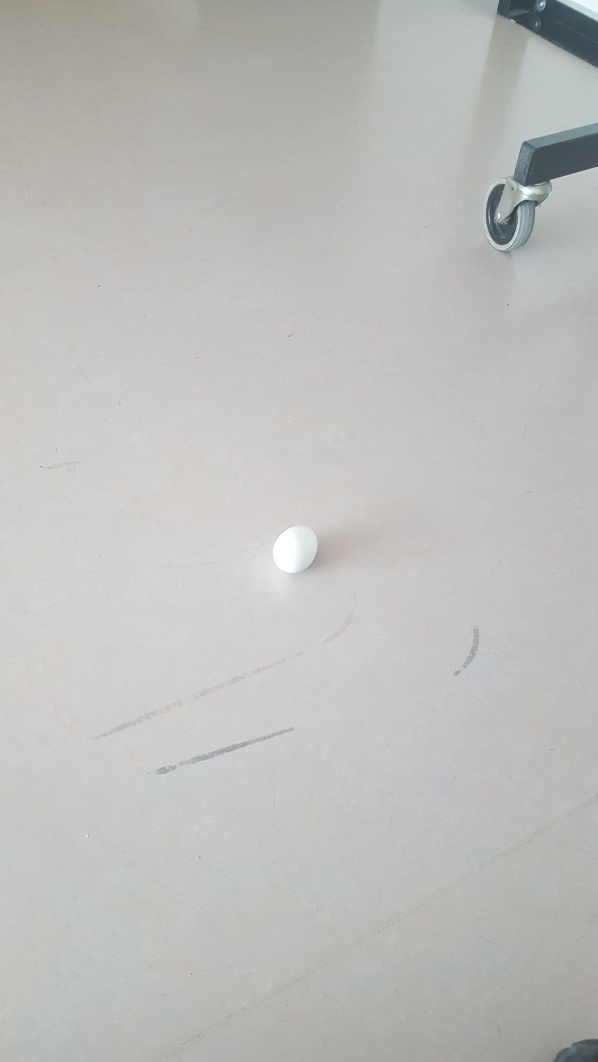egg: (273, 523, 325, 574)
